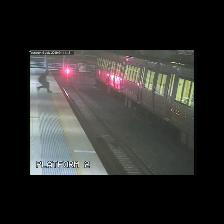person: (37, 70, 51, 92)
